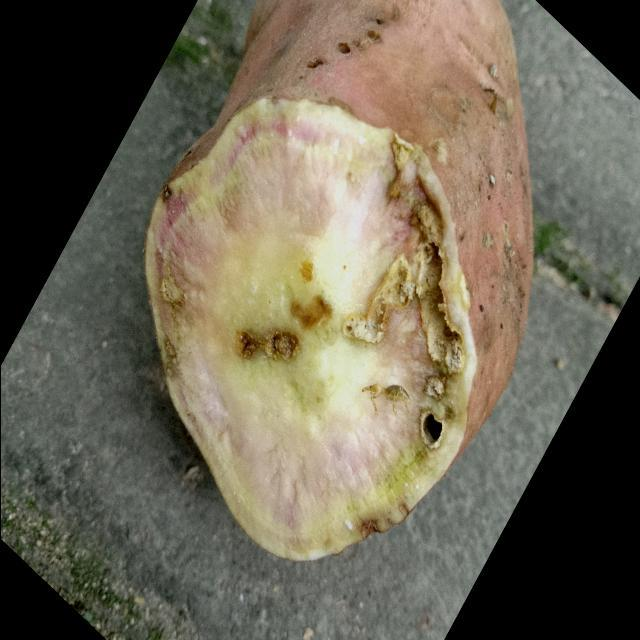Sick Sweet Potato_Tuber Rot: (144, 98, 475, 560)
